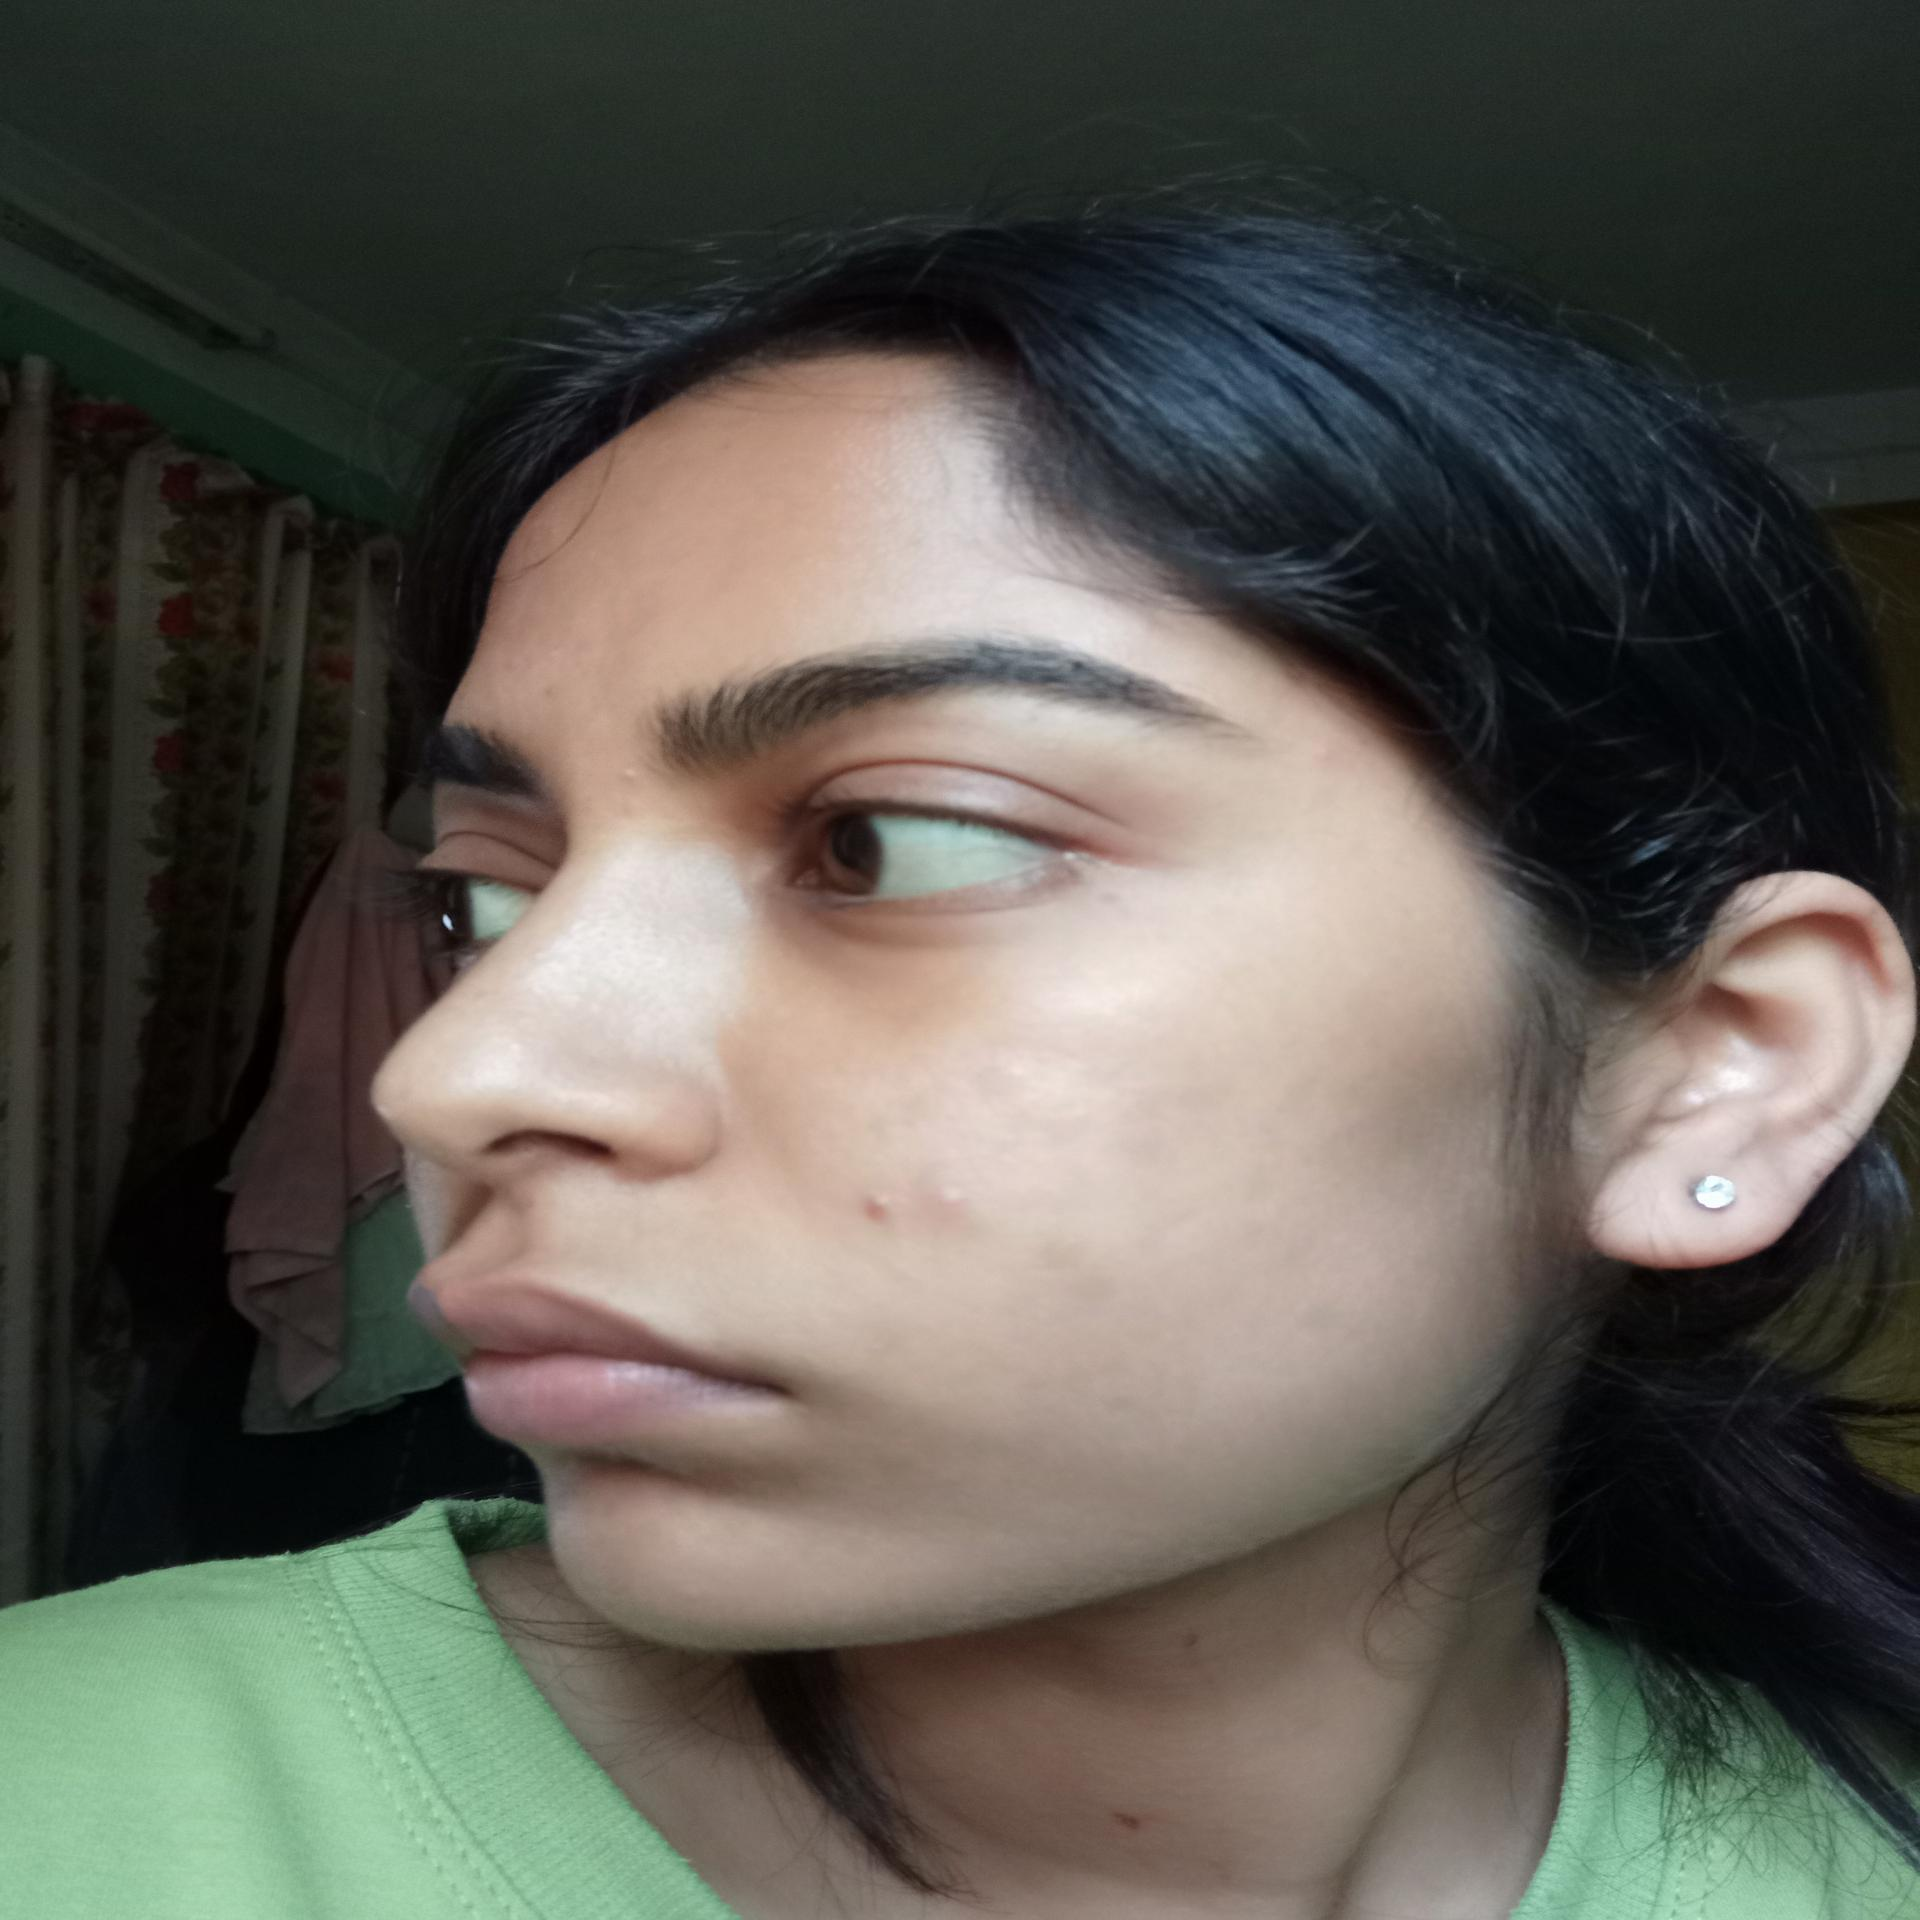Acne: (927, 1176, 976, 1224), (855, 1182, 900, 1224), (614, 763, 644, 821)
